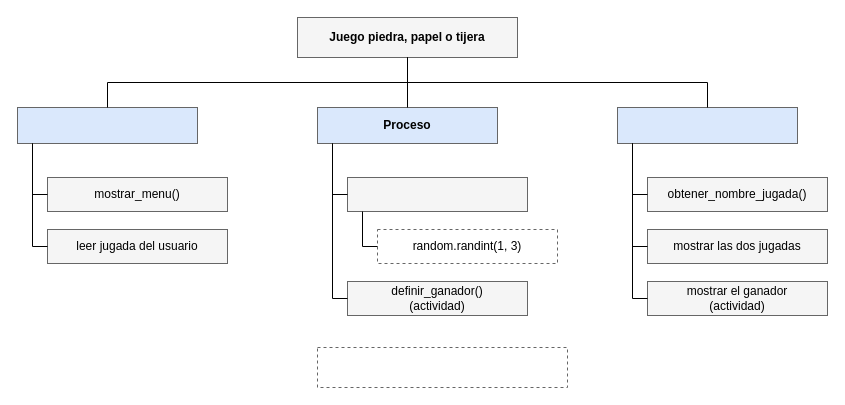
Some shapes in this 845 by 405 pixel diagram are drawn without their labels. The centre of each missing label's shape, as x and y in pixels:
"Borde punteado: función de librería (ya existe, no se escribe)" belongs at (x=442, y=367).
"Entrada" belongs at (x=107, y=125).
"jugar_maquina()" belongs at (x=437, y=194).
"Salida" belongs at (x=707, y=125).
